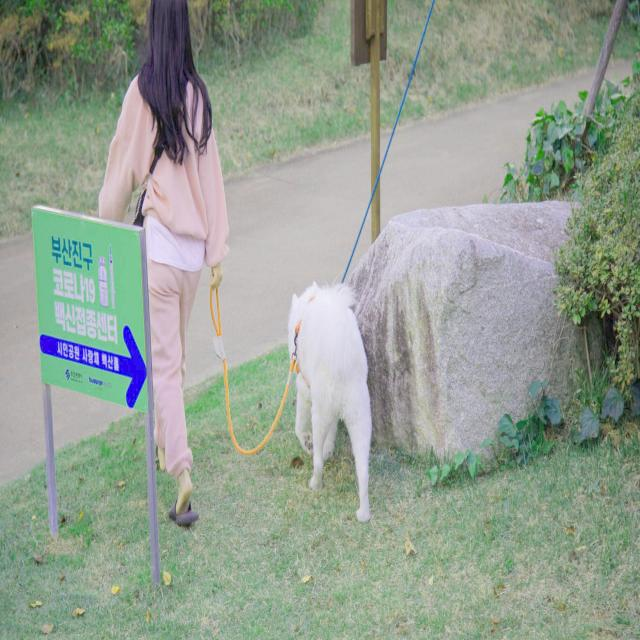Leashed_Dog: (169, 255, 371, 528)
